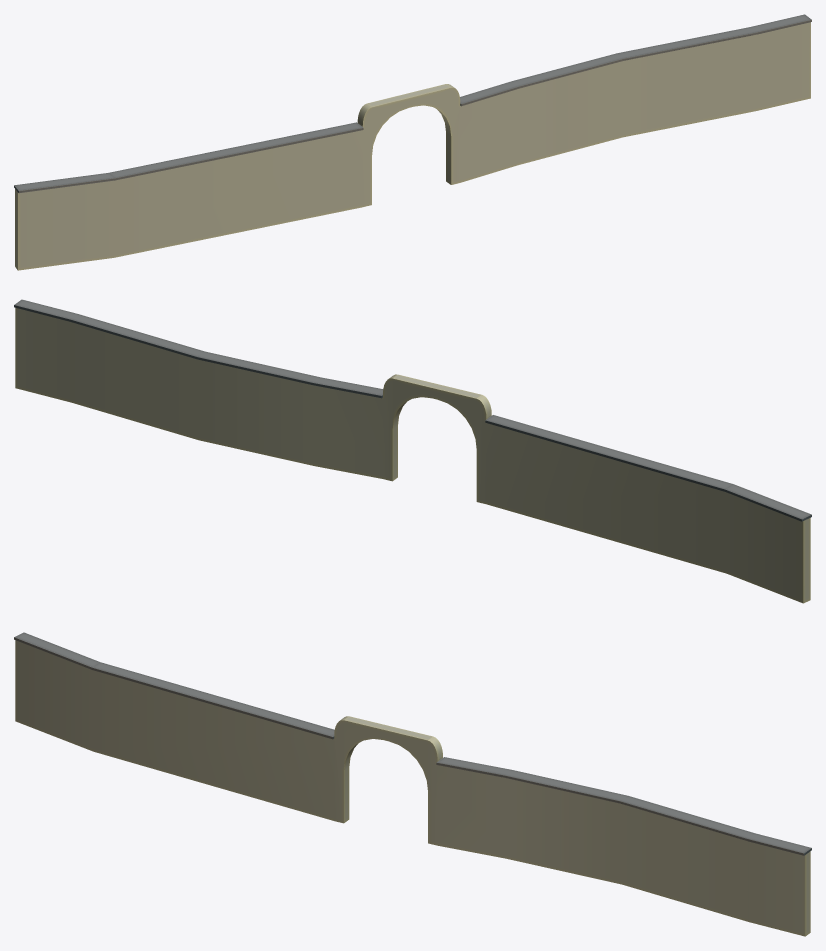
File: Zone2gatewalllowTEST.fbx
3 views of the same model, one above another, from view 1: azimuth 30°, elevation 25°; view 2: azimuth 150°, elevation 25°; view 3: azimuth 330°, elevation 25° (orthographic). The views are drawn at different scales.
Visible parts, largest first — view 1: wallzone2entrance_LOW, Brick part; view 2: wallzone2entrance_LOW, Brick part; view 3: wallzone2entrance_LOW, Brick part.
Boxes of the visible parts, bbox=[...] form: wallzone2entrance_LOW: bbox=[15, 22, 810, 270]; Brick part: bbox=[14, 14, 811, 193]; wallzone2entrance_LOW: bbox=[15, 307, 810, 603]; Brick part: bbox=[14, 299, 811, 521]; wallzone2entrance_LOW: bbox=[15, 640, 810, 936]; Brick part: bbox=[14, 632, 811, 855].
Size of the model in its own units: 4130 by 501 by 272.
2 materials, 2 textured.
